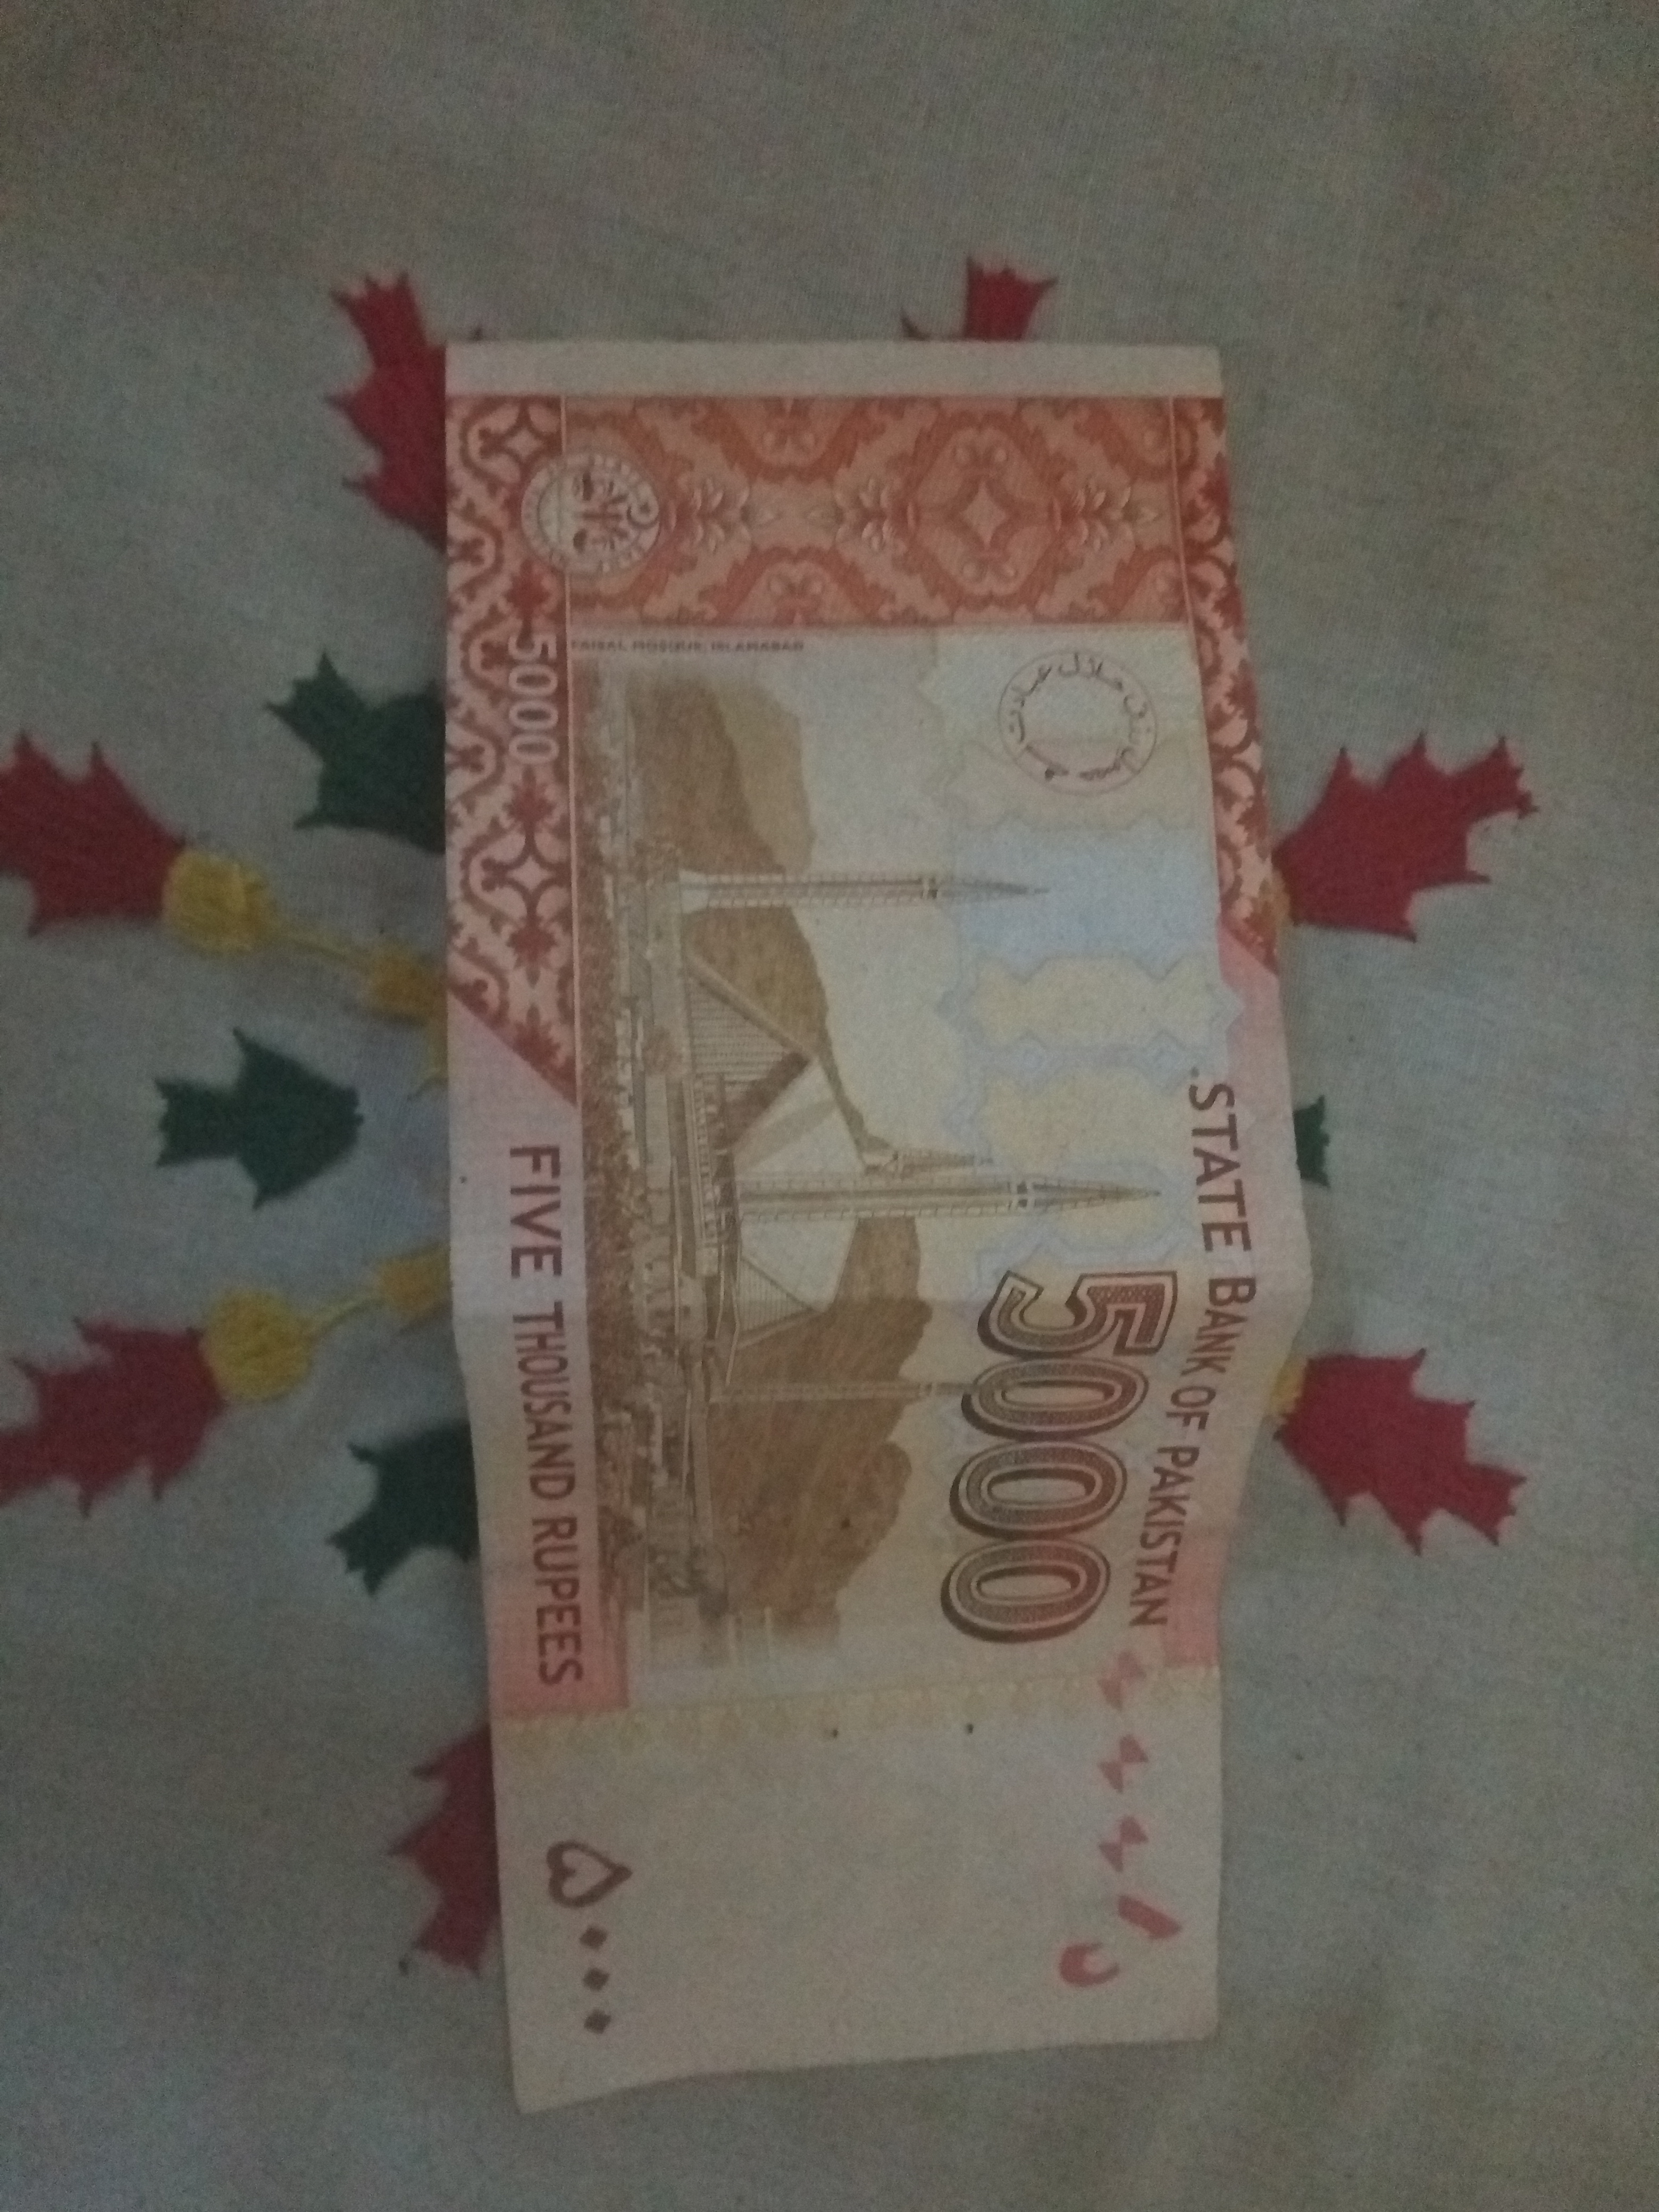5000 rupee: (392, 338, 1408, 2198)
